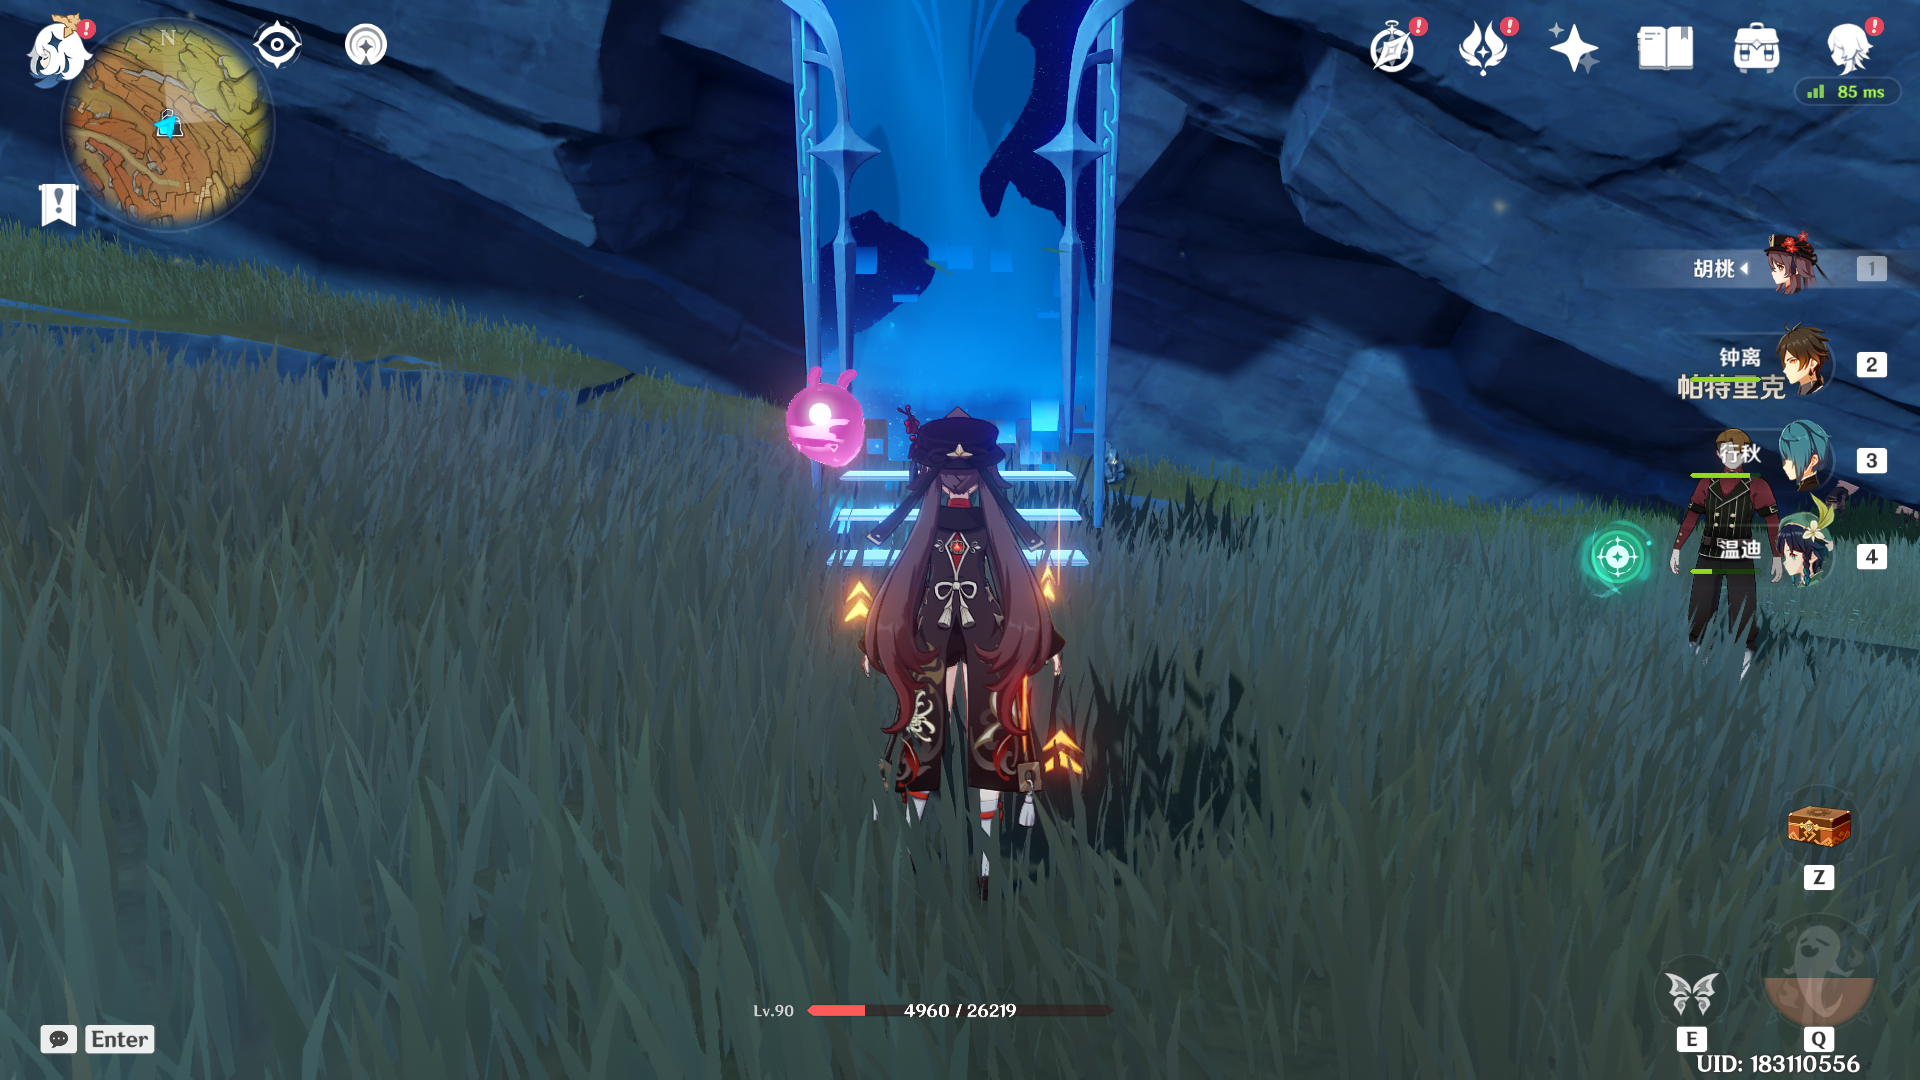character: (804, 381, 1129, 909)
